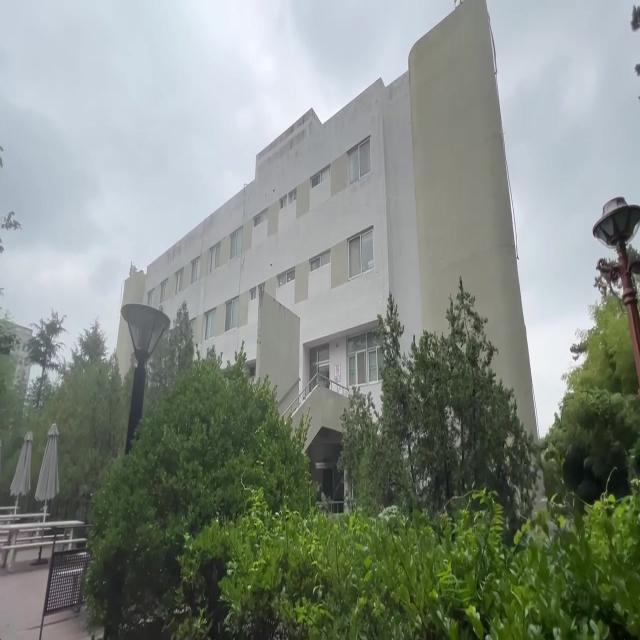building: (191, 32, 527, 366)
